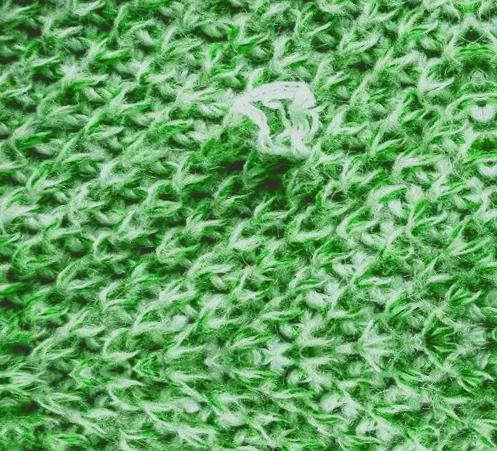snag: (229, 69, 322, 176)
